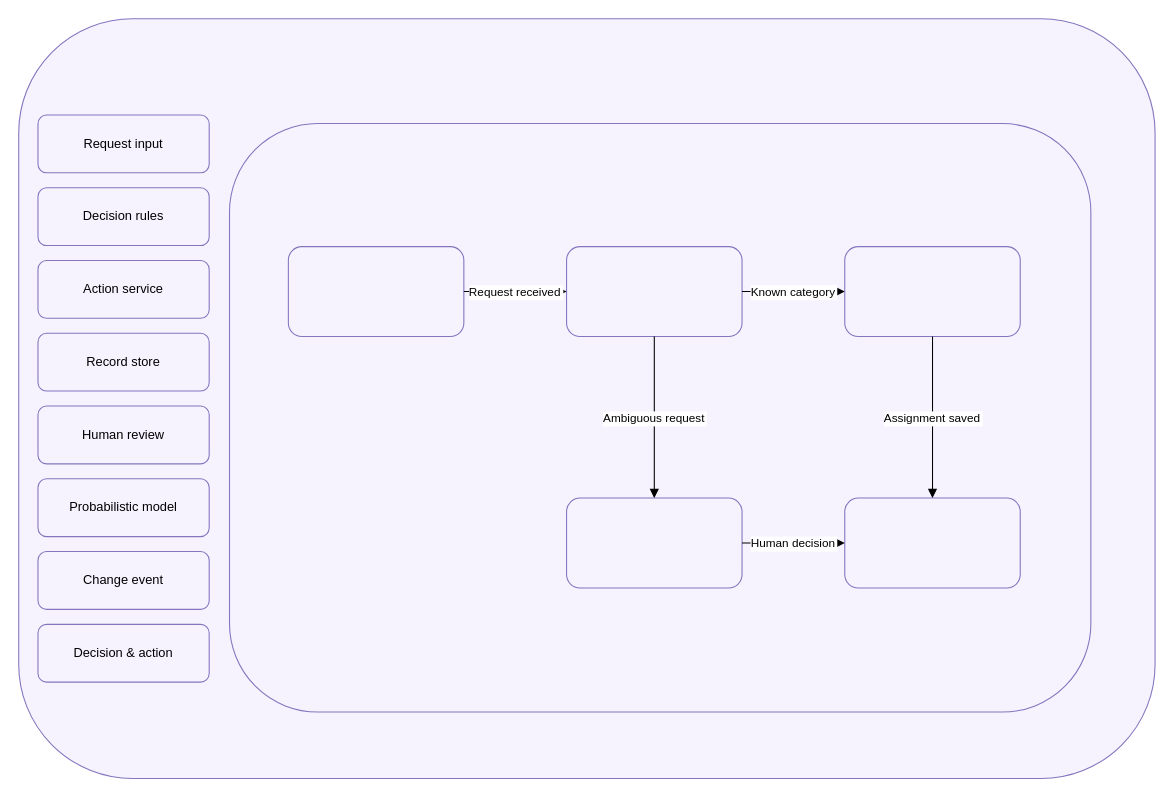
Image size: 1174x797. Some labels were removed from this diagram. The centre of each missing label's shape, as x and y in pixels:
"Assign queue" goes at (x=932, y=291).
"Case record" goes at (x=932, y=542).
"Routing rules" goes at (x=653, y=291).
"Support request" goes at (x=375, y=291).
"Triage specialist" goes at (x=653, y=542).
